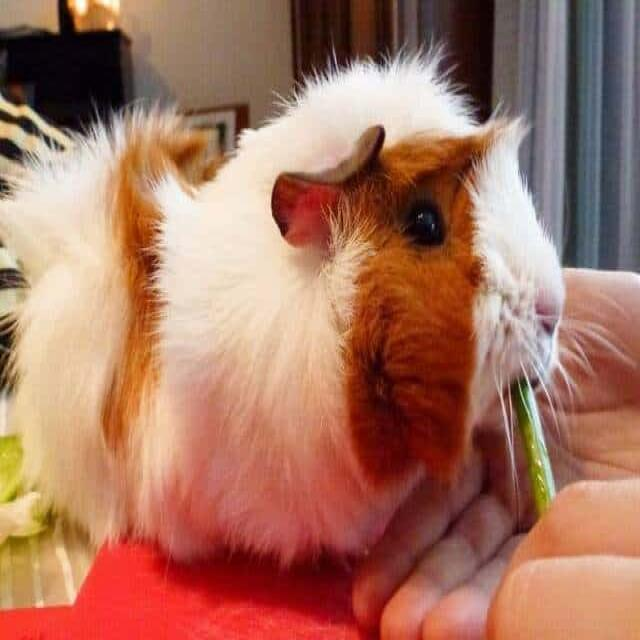guinea pig: (33, 60, 563, 586)
